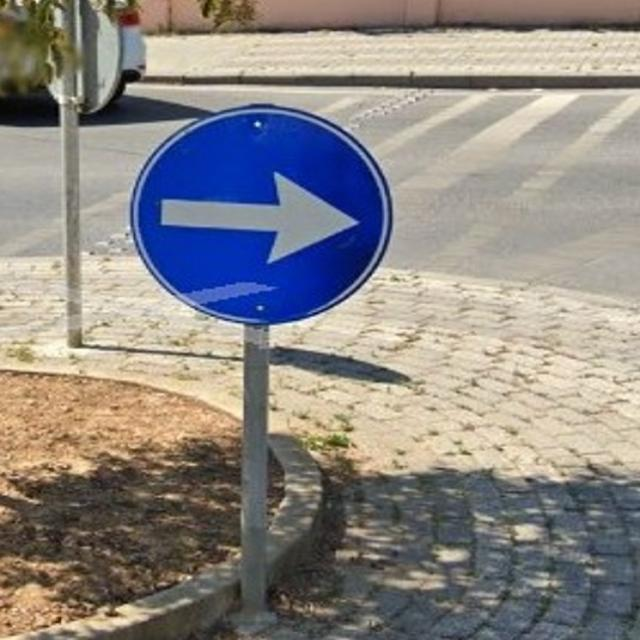Turn Right: (121, 106, 397, 327)
